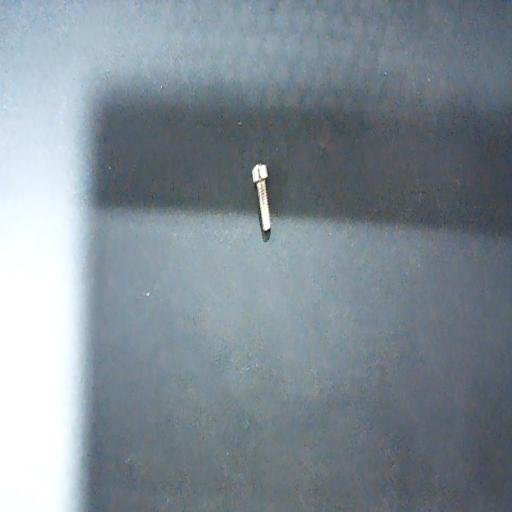screw: (251, 163, 271, 232)
